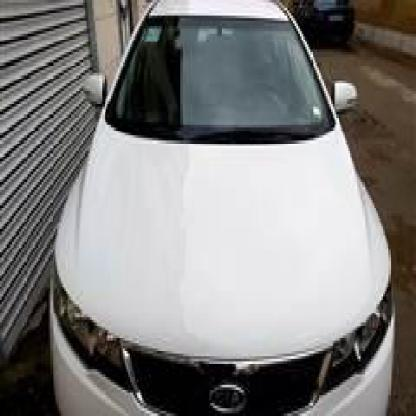car: (39, 0, 401, 414)
